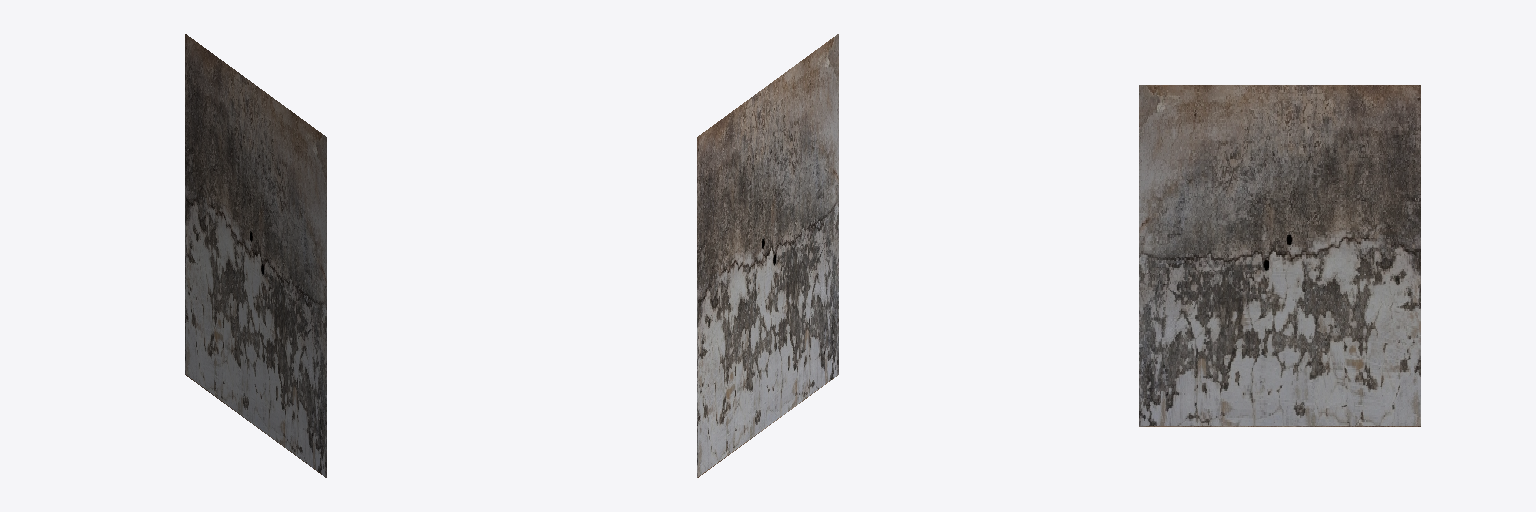
The picture shows the model from 3 angles: view 1: azimuth 30°, elevation 25°; view 2: azimuth 150°, elevation 25°; view 3: azimuth 270°, elevation 25°; orthographic projection.
Visible parts, largest first — view 1: Mesh_wall9; view 2: Mesh_wall9; view 3: Mesh_wall9.
Part boxes in pixels (bbox=[...]): Mesh_wall9: bbox=[185, 34, 326, 477]; Mesh_wall9: bbox=[697, 34, 838, 477]; Mesh_wall9: bbox=[1139, 85, 1420, 426].
Bounding box in the file's own units: 0 × 3 × 2.25.
1 materials, 1 textured.